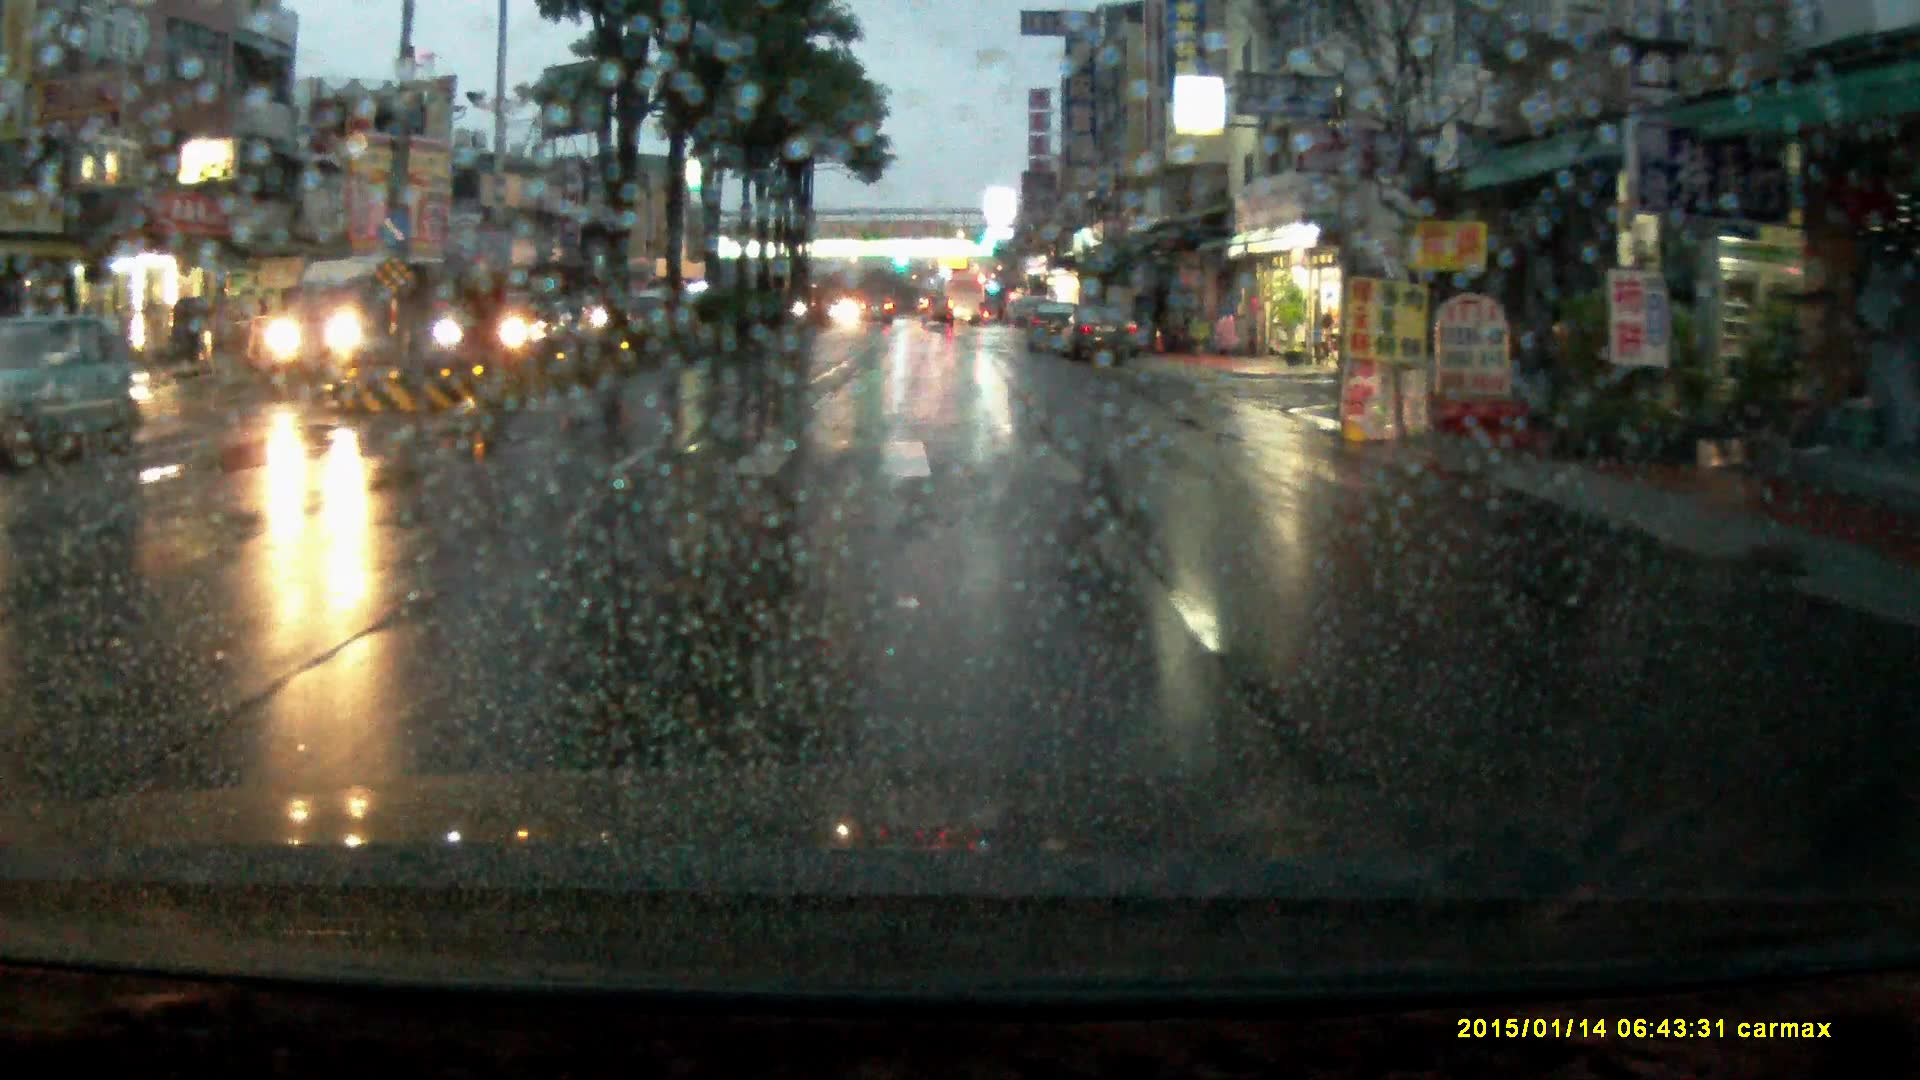vehicle: (268, 262, 446, 389), (427, 286, 555, 359), (1058, 305, 1143, 367), (1025, 301, 1081, 356), (945, 276, 986, 327), (923, 294, 957, 330), (860, 295, 895, 327)
